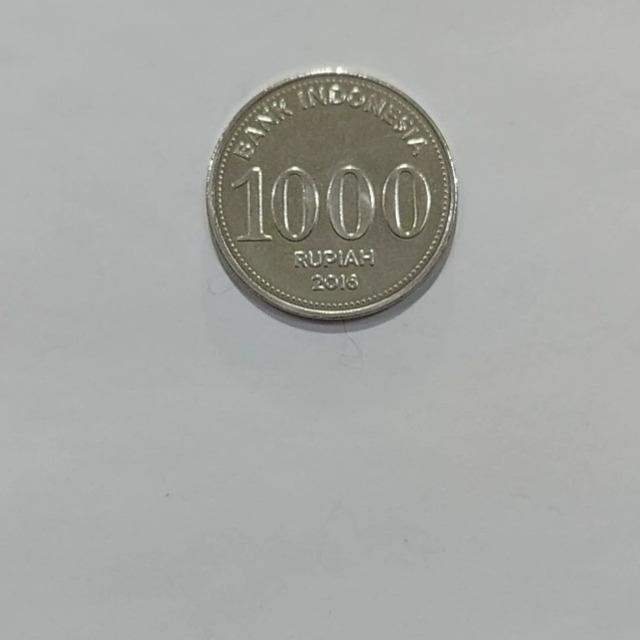Rp100: (203, 66, 459, 324)
